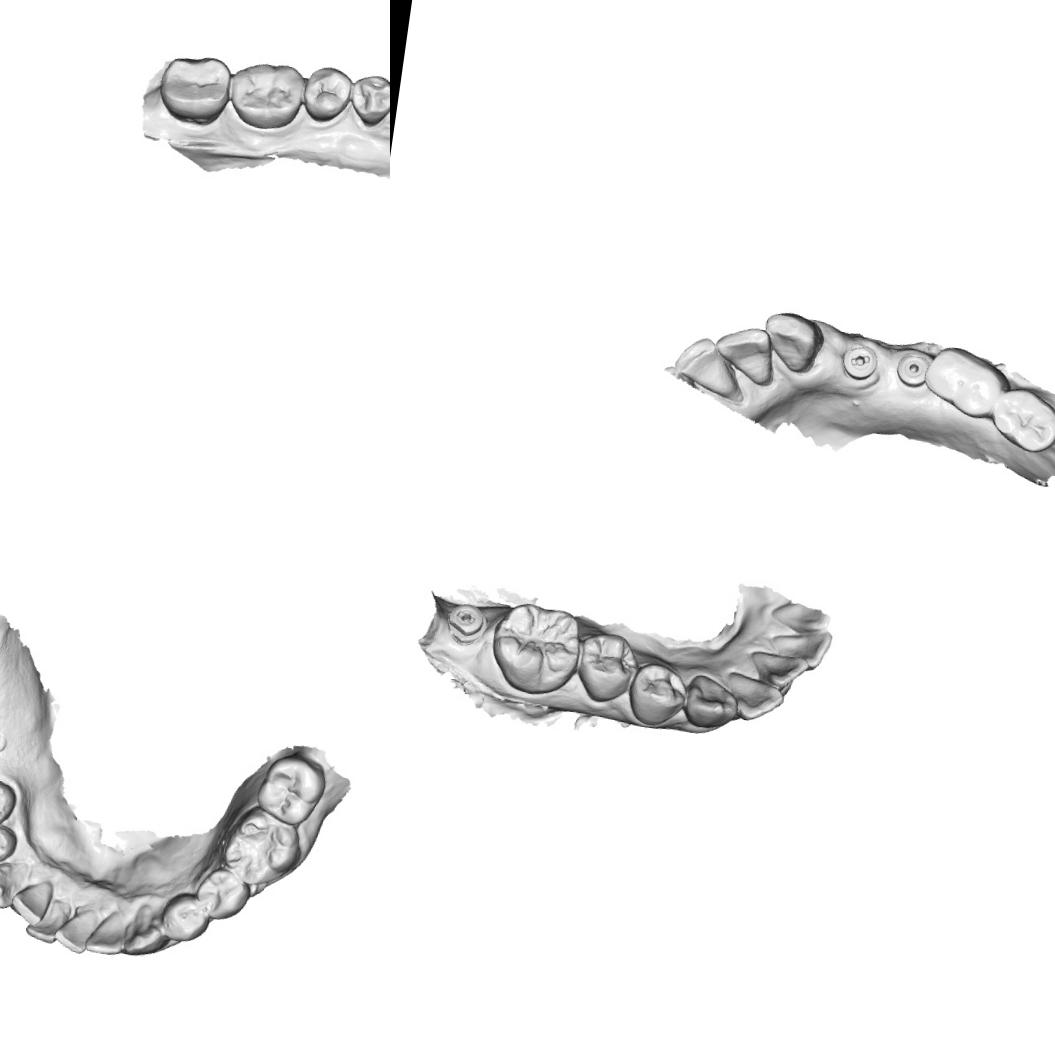canine: (758, 306, 825, 376), (679, 672, 742, 735), (120, 902, 166, 959), (0, 857, 32, 913)
implant: (890, 346, 936, 390)
implant_minus: (838, 338, 882, 382), (446, 600, 486, 642)
incisor: (670, 332, 745, 404), (710, 319, 778, 390), (720, 668, 787, 727), (766, 621, 833, 674), (744, 644, 812, 692), (8, 876, 54, 929), (51, 904, 97, 956), (83, 907, 127, 957), (24, 896, 63, 944)
molar: (484, 598, 587, 701), (220, 802, 304, 890), (922, 344, 1011, 422), (225, 57, 308, 134), (154, 50, 235, 128), (253, 751, 329, 829), (986, 382, 1055, 456)
premolar: (572, 628, 640, 706), (623, 659, 690, 730), (192, 864, 253, 924), (300, 63, 354, 126), (160, 890, 213, 946), (347, 71, 390, 130), (0, 774, 19, 830), (0, 821, 19, 872)
